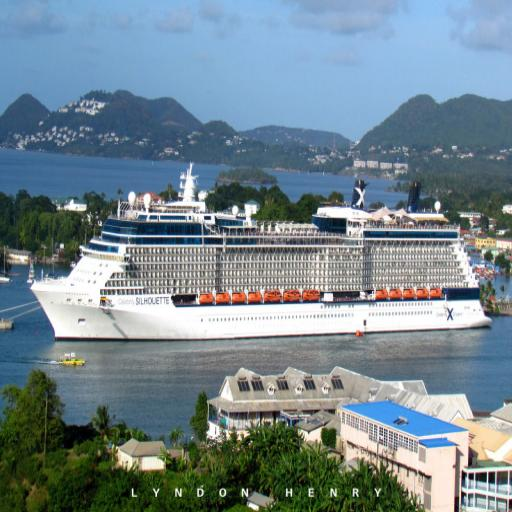cruises: (32, 155, 506, 348)
